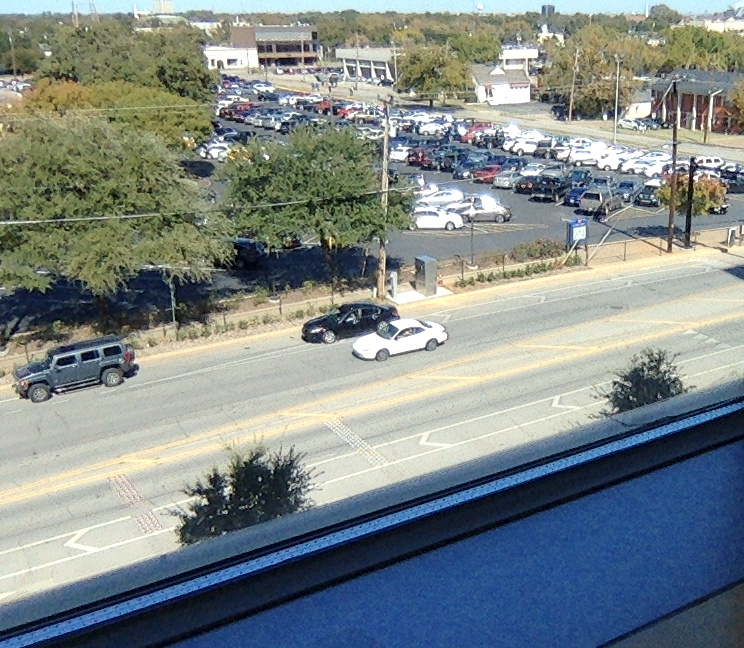car: (300, 300, 444, 348)
